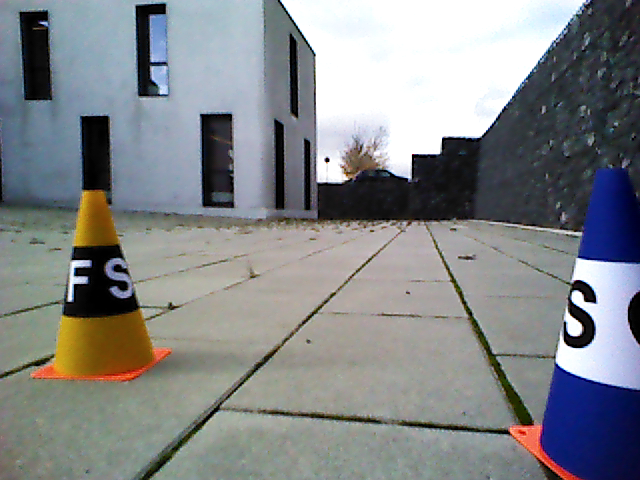bluecone: (535, 167, 640, 478)
yellowcone: (50, 187, 158, 376)
